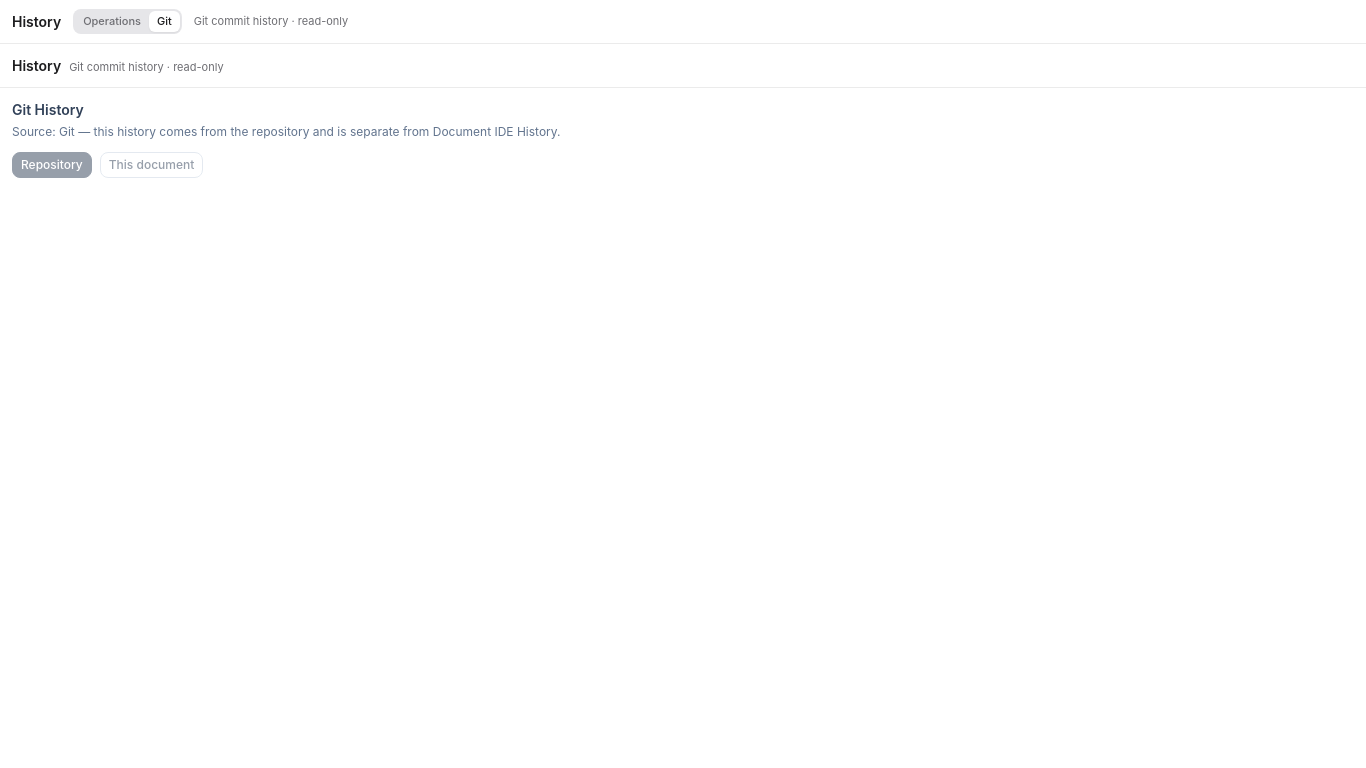
Test: HistoryScreen (UI-03 screen 10) › composes one History surface with an Operations | Git segmented control
This screenshot has width=1366, height=768.
Expected: the element with test id "git-history-screen" is shown, [0, 44, 1365, 190]
Click the radio button labelled "Operations" at (112, 22), box [75, 11, 149, 32]
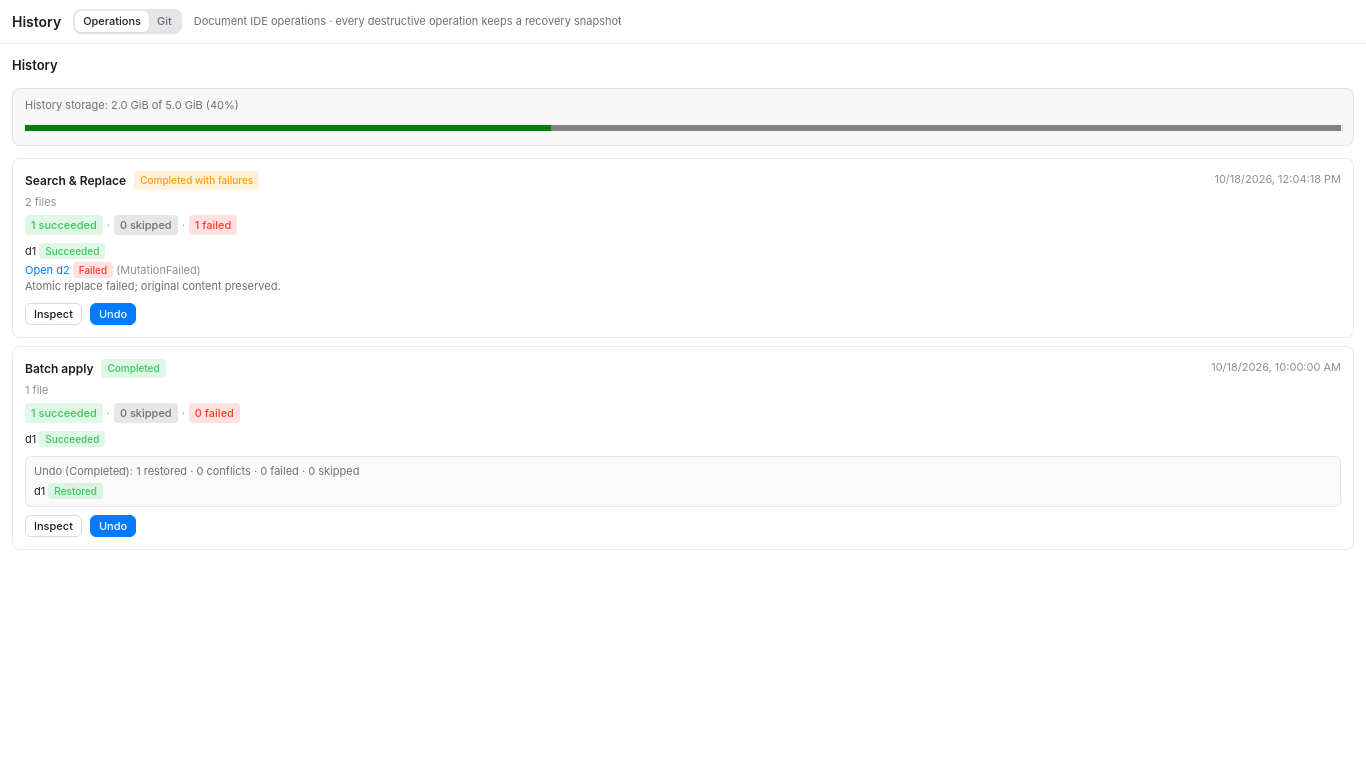
Expected: the element with test id "history-operations-surface" is shown
Expected: the element with test id "git-history-screen" is gone
Click the radio button labelled "Git" at (164, 22), box [149, 11, 180, 32]
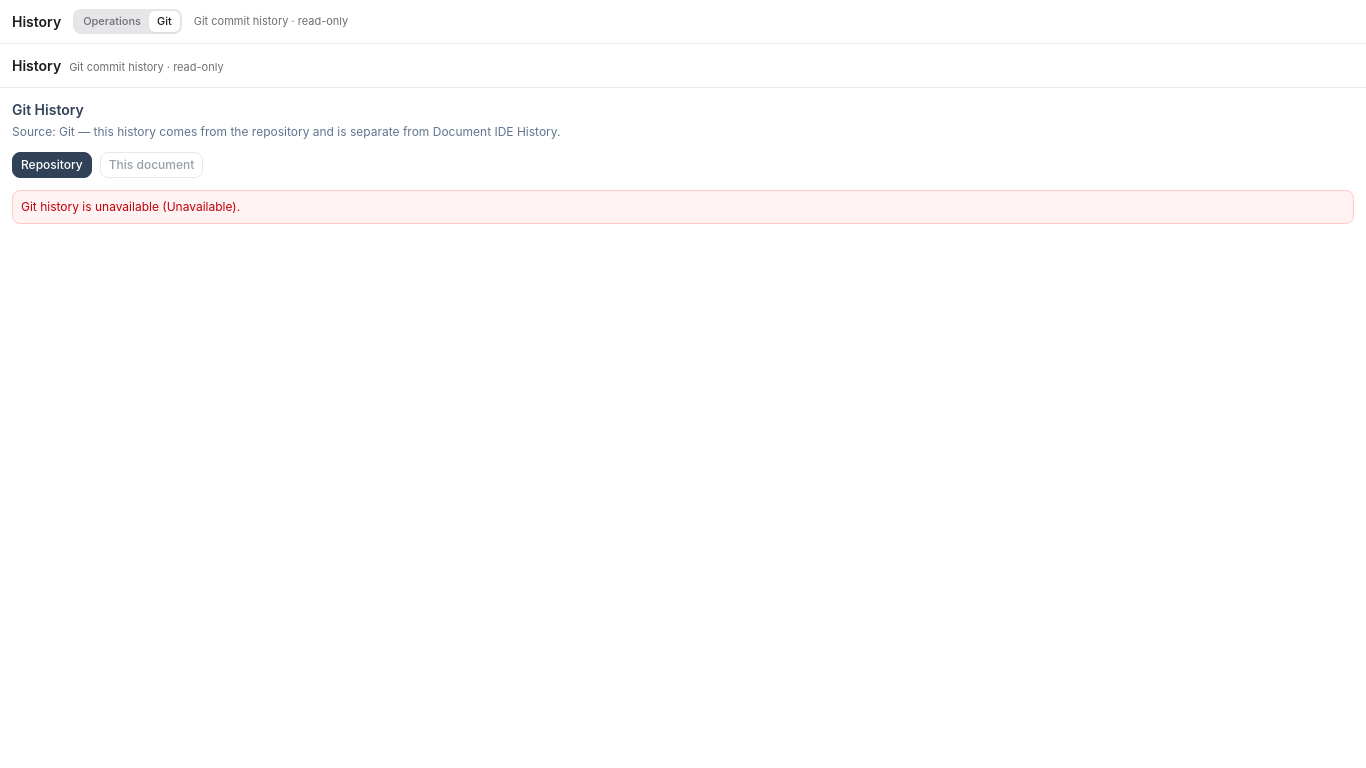
Expected: the element with test id "git-history-screen" is shown, [0, 44, 1365, 236]
Expected: the element with test id "history-operations-surface" is gone
